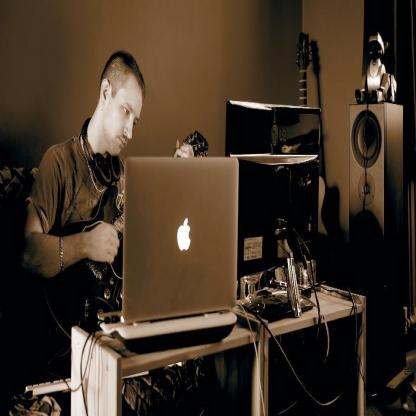board: (113, 153, 246, 337)
